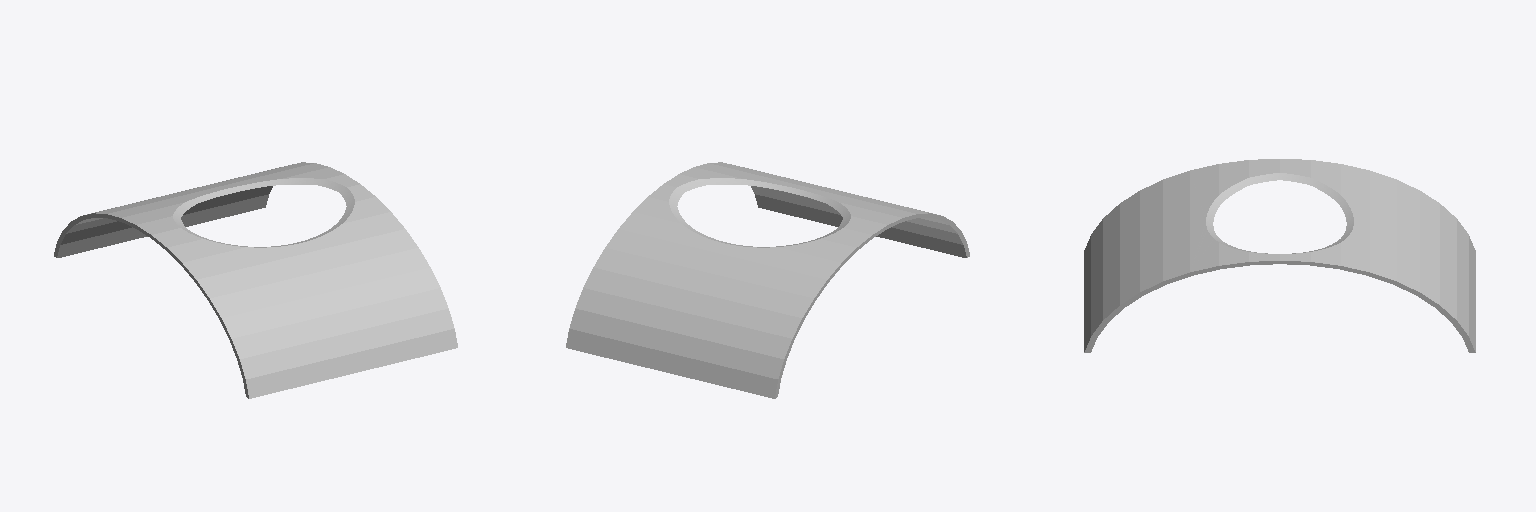
The model's file is sphereHolder.obj.
3 renders of one model, left to right at view 1: azimuth 30°, elevation 25°; view 2: azimuth 150°, elevation 25°; view 3: azimuth 270°, elevation 25°, orthographic.
Parts seen in each view (by area): view 1: sphereHolder_Cylinder; view 2: sphereHolder_Cylinder; view 3: sphereHolder_Cylinder.
Boxes of the visible parts, box(x1,y1,x2,y2) form: sphereHolder_Cylinder: box(54, 162, 457, 398); sphereHolder_Cylinder: box(566, 162, 969, 398); sphereHolder_Cylinder: box(1084, 159, 1475, 352).
Bounding box in the file's own units: 1.08 × 0.4563 × 1.74.